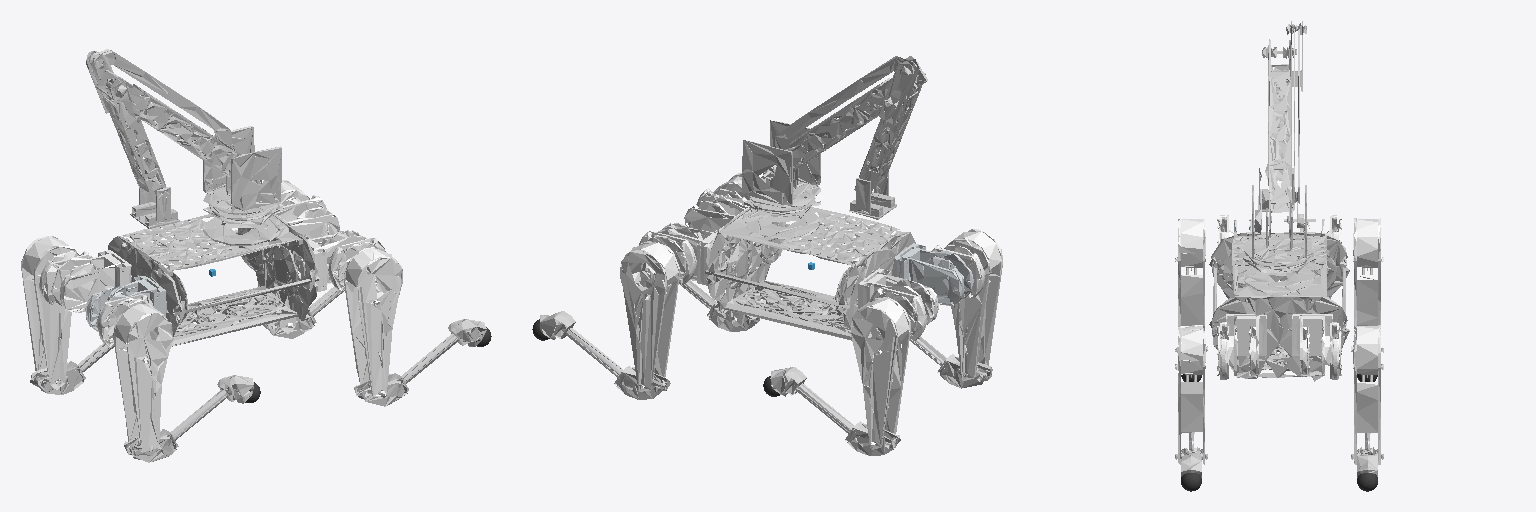
URDF robot description (mybot_v3_with_arm):
<?xml version="1.0" encoding="utf-8"?>
<robot name="mybot_v3_with_arm">
  <link name="body">
    <inertial>
      <origin xyz="0 0 0" rpy="0 0 0"/>
      <mass value="3.87237343"/>
      <inertia ixx="0.02571059" ixy="3E-08" ixz="5.548E-05" iyy="0.06723291" iyz="3.9E-07" izz="0.07677825"/>
    </inertial>
    <visual>
      <origin xyz="0 0 0" rpy="0 0 0"/>
      <geometry>
        <mesh filename="../meshes/body.STL"/>
      </geometry>
      <material name="">
        <color rgba="0.84706 0.84706 0.84706 1"/>
      </material>
    </visual>
    <collision name="body_collision">
      <origin xyz="0 0 0" rpy="0 0 0"/>
      <geometry>
        <box size="0.30 0.25 0.20"/>
      </geometry>
    </collision>
  </link>
  <joint name="imu_joint" type="fixed">
    <parent link="body"/>
    <child link="imu_link"/>
    <origin rpy="0 0 0" xyz="0 0 0"/>
  </joint>
  <link name="imu_link">
    <inertial>
      <mass value="0.001"/>
      <origin rpy="0 0 0" xyz="0 0 0"/>
      <inertia ixx="0.0001" ixy="0" ixz="0" iyy="0.0001" iyz="0" izz="0.0001"/>
    </inertial>
    <visual>
      <origin rpy="0 0 0" xyz="0 0 0"/>
      <geometry>
        <box size="0.01 0.01 0.01"/>
      </geometry>
      <material name="red"/>
    </visual>
    <collision name="imu_link_collision">
      <origin rpy="0 0 0" xyz="0 0 0"/>
      <geometry>
        <box size="0.01 0.01 0.01"/>
      </geometry>
    </collision>
  </link>
  <link name="FL_hip">
    <inertial>
      <origin xyz="0.06912954 0.00308032 -3.864E-05" rpy="0 0 0"/>
      <mass value="0.88715"/>
      <inertia ixx="0.00069961" ixy="-5.524E-05" ixz="1.61E-06" iyy="0.001851" iyz="-2.9E-07" izz="0.0015654"/>
    </inertial>
    <visual>
      <origin xyz="0 0 0" rpy="0 0 0"/>
      <geometry>
        <mesh filename="../meshes/FL_hip.STL"/>
      </geometry>
      <material name="">
        <color rgba="1 1 1 1"/>
      </material>
    </visual>
    <collision name="FL_hip_collision">
      <origin xyz="0.09 0 0" rpy="1.5707963 0 0"/>
      <geometry>
        <box size="0.05 0.05 0.05"/>
      </geometry>
    </collision>
  </link>
  <joint name="FL_hip_joint" type="revolute">
    <origin xyz="0.15078 0.062035 0.0028793" rpy="0 0 0"/>
    <parent link="body"/>
    <child link="FL_hip"/>
    <axis xyz="1 0 0"/>
    <dynamics damping="0.0" friction="0.1"/>
    <limit effort="33.5" lower="-0.8" upper="0.8" velocity="28"/>
  </joint>
  <link name="FL_thigh">
    <inertial>
      <origin xyz="-0.00157835 0.05108903 -0.03349728" rpy="0 0 0"/>
      <mass value="1.4406"/>
      <inertia ixx="0.007123" ixy="6.001E-05" ixz="-6.848E-05" iyy="0.00681289" iyz="0.00118491" izz="0.00198498"/>
    </inertial>
    <visual>
      <origin xyz="0 0 0" rpy="0 0 0"/>
      <geometry>
        <mesh filename="../meshes/FL_thigh.STL"/>
      </geometry>
      <material name="">
        <color rgba="1 1 1 1"/>
      </material>
    </visual>
    <collision name="FL_thigh_collision">
      <origin xyz="0 0.08 -0.1" rpy="0 0 0"/>
      <geometry>
        <box size="0.04 0.04 0.2"/>
      </geometry>
    </collision>
  </link>
  <joint name="FL_thigh_joint" type="revolute">
    <origin xyz="0.0889996956253644 0.0289500000000045 0" rpy="0 0 0"/>
    <parent link="FL_hip"/>
    <child link="FL_thigh"/>
    <axis xyz="0 1 0"/>
    <dynamics damping="0.0" friction="0.1"/>
    <limit effort="33.5" lower="-1.04" upper="4.18" velocity="28"/>
  </joint>
  <link name="FL_calf">
    <inertial>
      <origin xyz="0.00128763 0.00019208 -0.06746137" rpy="0 0 0"/>
      <mass value="0.23708"/>
      <inertia ixx="0.00201781" ixy="-3.8E-07" ixz="0.00025632" iyy="0.00206401" iyz="3.47E-06" izz="0.00012004"/>
    </inertial>
    <visual>
      <origin xyz="0 0 0" rpy="0 0 0"/>
      <geometry>
        <mesh filename="../meshes/FL_calf.STL"/>
      </geometry>
      <material name="">
        <color rgba="0.84706 0.84706 0.84706 1"/>
      </material>
    </visual>
    <collision name="FL_calf_collision">
      <origin xyz="0 0 -0.11" rpy="0 -0.3 0"/>
      <geometry>
        <box size="0.02 0.02 0.2"/>
      </geometry>
    </collision>
  </link>
  <joint name="FL_calf_joint" type="revolute">
    <origin xyz="0 0.075299999999995 -0.220000271728273" rpy="0 0 0"/>
    <parent link="FL_thigh"/>
    <child link="FL_calf"/>
    <axis xyz="0 1 0"/>
    <dynamics damping="0.0" friction="0.3"/>
    <limit effort="78.17" lower="-2.69" upper="-0.91" velocity="12.0"/>
  </joint>
  <link name="FL_foot">
    <inertial>
      <origin xyz="0 0 0" rpy="0 0 0"/>
      <mass value="0.039"/>
      <inertia ixx="6.24E-06" ixy="0" ixz="0" iyy="6.24E-06" iyz="0" izz="6.24E-06"/>
    </inertial>
    <visual>
      <origin xyz="0 0 0" rpy="0 0 0"/>
      <geometry>
        <mesh filename="../meshes/FL_foot.STL"/>
      </geometry>
      <material name="">
        <color rgba="0.29804 0.29804 0.29804 1"/>
      </material>
    </visual>
    <collision name="FL_foot_collision">
      <origin xyz="0 0 0" rpy="0 0 0"/>
      <geometry>
        <sphere radius="0.02"/>
      </geometry>
    </collision>
  </link>
  <joint name="FL_foot_joint" type="fixed">
    <origin xyz="0 0.000400000000007244 -0.226044482407549" rpy="0 0 0"/>
    <parent link="FL_calf"/>
    <child link="FL_foot"/>
    <axis xyz="0 0 0"/>
  </joint>
  <link name="FR_hip">
    <inertial>
      <origin xyz="0.06924677 -0.00308032 -3.847E-05" rpy="0 0 0"/>
      <mass value="0.88715"/>
      <inertia ixx="0.00069961" ixy="5.408E-05" ixz="-2.6E-07" iyy="0.00185513" iyz="2.9E-07" izz="0.00156952"/>
    </inertial>
    <visual>
      <origin xyz="0 0 0" rpy="0 0 0"/>
      <geometry>
        <mesh filename="../meshes/FR_hip.STL"/>
      </geometry>
      <material name="">
        <color rgba="1 1 1 1"/>
      </material>
    </visual>
    <collision name="FR_hip_collision">
      <origin xyz="0.09 0 0" rpy="1.5707963 0 0"/>
      <geometry>
        <box size="0.05 0.05 0.05"/>
      </geometry>
    </collision>
  </link>
  <joint name="FR_hip_joint" type="revolute">
    <origin xyz="0.15078 -0.061965 0.0028793" rpy="0 0 0"/>
    <parent link="body"/>
    <child link="FR_hip"/>
    <axis xyz="1 0 0"/>
    <dynamics damping="0.0" friction="0.1"/>
    <limit effort="33.5" lower="-0.8" upper="0.8" velocity="28"/>
  </joint>
  <link name="FR_thigh">
    <inertial>
      <origin xyz="-0.00165058 -0.05108904 -0.03349728" rpy="0 0 0"/>
      <mass value="1.4406"/>
      <inertia ixx="0.007123" ixy="-5.712E-05" ixz="-6.685E-05" iyy="0.00681255" iyz="-0.00118491" izz="0.00198464"/>
    </inertial>
    <visual>
      <origin xyz="0 0 0" rpy="0 0 0"/>
      <geometry>
        <mesh filename="../meshes/FR_thigh.STL"/>
      </geometry>
      <material name="">
        <color rgba="1 1 1 1"/>
      </material>
    </visual>
    <collision name="FR_thigh_collision">
      <origin xyz="0 -0.08 -0.1" rpy="0 0 0"/>
      <geometry>
        <box size="0.04 0.04 0.2"/>
      </geometry>
    </collision>
  </link>
  <joint name="FR_thigh_joint" type="revolute">
    <origin xyz="0.0889996956253649 -0.0289500000000027 0" rpy="0 0 0"/>
    <parent link="FR_hip"/>
    <child link="FR_thigh"/>
    <axis xyz="0 1 0"/>
    <dynamics damping="0.0" friction="0.1"/>
    <limit effort="33.5" lower="-1.04" upper="4.18" velocity="28"/>
  </joint>
  <link name="FR_calf">
    <inertial>
      <origin xyz="0.00128778 0.00059175 -0.06722727" rpy="0 0 0"/>
      <mass value="0.23708"/>
      <inertia ixx="0.00208296" ixy="1E-07" ixz="0.00025619" iyy="0.00206862" iyz="-2.062E-05" izz="0.00018061"/>
    </inertial>
    <visual>
      <origin xyz="0 0 0" rpy="0 0 0"/>
      <geometry>
        <mesh filename="../meshes/FR_calf.STL"/>
      </geometry>
      <material name="">
        <color rgba="0.84706 0.84706 0.84706 1"/>
      </material>
    </visual>
    <collision name="FR_calf_collision">
      <origin xyz="0 0 -0.11" rpy="0 -0.3 0"/>
      <geometry>
        <box size="0.02 0.02 0.2"/>
      </geometry>
    </collision>
  </link>
  <joint name="FR_calf_joint" type="revolute">
    <origin xyz="0 -0.0752999999999995 -0.220000271728275" rpy="0 0 0"/>
    <parent link="FR_thigh"/>
    <child link="FR_calf"/>
    <axis xyz="0 1 0"/>
    <dynamics damping="0.0" friction="0.3"/>
    <limit effort="78.17" lower="-2.69" upper="-0.91" velocity="12.0"/>
  </joint>
  <link name="FR_foot">
    <inertial>
      <origin xyz="0 0 0" rpy="0 0 0"/>
      <mass value="0.039"/>
      <inertia ixx="6.24E-06" ixy="0" ixz="0" iyy="6.24E-06" iyz="0" izz="6.24E-06"/>
    </inertial>
    <visual>
      <origin xyz="0 0 0" rpy="0 0 0"/>
      <geometry>
        <mesh filename="../meshes/FR_foot.STL"/>
      </geometry>
      <material name="">
        <color rgba="0.29804 0.29804 0.29804 1"/>
      </material>
    </visual>
    <collision name="FR_foot_collision">
      <origin xyz="0 0 0" rpy="0 0 0"/>
      <geometry>
        <sphere radius="0.02"/>
      </geometry>
    </collision>
  </link>
  <joint name="FR_foot_joint" type="fixed">
    <origin xyz="0 -0.000399999999994072 -0.226044482407548" rpy="0 0 0"/>
    <parent link="FR_calf"/>
    <child link="FR_foot"/>
    <axis xyz="0 0 0"/>
  </joint>
  <link name="RL_hip">
    <inertial>
      <origin xyz="-0.06912961 0.00308032 3.847E-05" rpy="0 0 0"/>
      <mass value="0.88715"/>
      <inertia ixx="0.00069961" ixy="5.524E-05" ixz="1.61E-06" iyy="0.00185101" iyz="2.9E-07" izz="0.00039462"/>
    </inertial>
    <visual>
      <origin xyz="0 0 0" rpy="0 0 0"/>
      <geometry>
        <mesh filename="../meshes/RL_hip.STL"/>
      </geometry>
      <material name="">
        <color rgba="1 1 1 1"/>
      </material>
    </visual>
    <collision name="RL_hip_collision">
      <origin xyz="-0.09 0 0" rpy="1.5707963 0 0"/>
      <geometry>
        <box size="0.05 0.05 0.05"/>
      </geometry>
    </collision>
  </link>
  <joint name="RL_hip_joint" type="revolute">
    <origin xyz="-0.15042 0.062035 0.0028793" rpy="0 0 0"/>
    <parent link="body"/>
    <child link="RL_hip"/>
    <axis xyz="1 0 0"/>
    <dynamics damping="0.0" friction="0.1"/>
    <limit effort="33.5" lower="-0.8" upper="0.8" velocity="28"/>
  </joint>
  <link name="RL_thigh">
    <inertial>
      <origin xyz="-0.00160464 0.05142477 -0.0332169" rpy="0 0 0"/>
      <mass value="1.4406"/>
      <inertia ixx="0.00716742" ixy="6.033E-05" ixz="-6.711E-05" iyy="0.00683898" iyz="0.00116896" izz="0.0020135"/>
    </inertial>
    <visual>
      <origin xyz="0 0 0" rpy="0 0 0"/>
      <geometry>
        <mesh filename="../meshes/RL_thigh.STL"/>
      </geometry>
      <material name="">
        <color rgba="1 1 1 1"/>
      </material>
    </visual>
    <collision name="RL_thigh_collision">
      <origin xyz="0 0.08 -0.1" rpy="0 0 0"/>
      <geometry>
        <box size="0.04 0.04 0.2"/>
      </geometry>
    </collision>
  </link>
  <joint name="RL_thigh_joint" type="revolute">
    <origin xyz="-0.0889996956253643 0.0289499874999981 0" rpy="0 0 0"/>
    <parent link="RL_hip"/>
    <child link="RL_thigh"/>
    <axis xyz="0 1 0"/>
    <dynamics damping="0.0" friction="0.1"/>
    <limit effort="33.5" lower="-1.04" upper="4.18" velocity="28"/>
  </joint>
  <link name="RL_calf">
    <inertial>
      <origin xyz="1.358E-05 1.0345E-05 -0.06699953" rpy="0 0 0"/>
      <mass value="0.23708"/>
      <inertia ixx="0.00202425" ixy="0" ixz="0.00025653" iyy="0.00207095" iyz="-2.7E-07" izz="0.00011991"/>
    </inertial>
    <visual>
      <origin xyz="0 0 0" rpy="0 0 0"/>
      <geometry>
        <mesh filename="../meshes/RL_calf.STL"/>
      </geometry>
      <material name="">
        <color rgba="0.84706 0.84706 0.84706 1"/>
      </material>
    </visual>
    <collision name="RL_calf_collision">
      <origin xyz="0 0 -0.11" rpy="0 -0.3 0"/>
      <geometry>
        <box size="0.02 0.02 0.2"/>
      </geometry>
    </collision>
  </link>
  <joint name="RL_calf_joint" type="revolute">
    <origin xyz="0 0.0752999999999953 -0.220000271728273" rpy="0 0 0"/>
    <parent link="RL_thigh"/>
    <child link="RL_calf"/>
    <axis xyz="0 1 0"/>
    <dynamics damping="0.0" friction="0.3"/>
    <limit effort="78.17" lower="-2.69" upper="-0.91" velocity="12.0"/>
  </joint>
  <link name="RL_foot">
    <inertial>
      <origin xyz="0 0 0" rpy="0 0 0"/>
      <mass value="0.039"/>
      <inertia ixx="6.24E-06" ixy="0" ixz="0" iyy="6.24E-06" iyz="0" izz="6.24E-06"/>
    </inertial>
    <visual>
      <origin xyz="0 0 0" rpy="0 0 0"/>
      <geometry>
        <mesh filename="../meshes/RL_foot.STL"/>
      </geometry>
      <material name="">
        <color rgba="0.29804 0.29804 0.29804 1"/>
      </material>
    </visual>
    <collision name="RL_foot_collision">
      <origin xyz="0 0 0" rpy="0 0 0"/>
      <geometry>
        <sphere radius="0.02"/>
      </geometry>
    </collision>
  </link>
  <joint name="RL_foot_joint" type="fixed">
    <origin xyz="0 0 -0.226044482410381" rpy="0 0 0"/>
    <parent link="RL_calf"/>
    <child link="RL_foot"/>
    <axis xyz="0 0 0"/>
  </joint>
  <link name="RR_hip">
    <inertial>
      <origin xyz="-0.06924676 -0.00308032 3.847E-05" rpy="0 0 0"/>
      <mass value="0.88715"/>
      <inertia ixx="0.00069961" ixy="-5.408E-05" ixz="-2.6E-07" iyy="0.00185513" iyz="-2.9E-07" izz="0.00156952"/>
    </inertial>
    <visual>
      <origin xyz="0 0 0" rpy="0 0 0"/>
      <geometry>
        <mesh filename="../meshes/RR_hip.STL"/>
      </geometry>
      <material name="">
        <color rgba="0.89804 0.91765 0.92941 1"/>
      </material>
    </visual>
    <collision name="RR_hip_collision">
      <origin xyz="-0.09 0 0" rpy="1.5707963 0 0"/>
      <geometry>
        <box size="0.05 0.05 0.05"/>
      </geometry>
    </collision>
  </link>
  <joint name="RR_hip_joint" type="revolute">
    <origin xyz="-0.150422440000001 -0.0619648146458117 0.00287929128020871" rpy="0 0 0"/>
    <parent link="body"/>
    <child link="RR_hip"/>
    <axis xyz="1 0 0"/>
    <dynamics damping="0.0" friction="0.1"/>
    <limit effort="33.5" lower="-0.8" upper="0.8" velocity="28"/>
  </joint>
  <link name="RR_thigh">
    <inertial>
      <origin xyz="-0.0016754 -0.050906 -0.029428" rpy="0 0 0"/>
      <mass value="1.4406"/>
      <inertia ixx="0.0060848" ixy="-5.774E-05" ixz="-7.671E-05" iyy="0.005786" iyz="-0.0010329" izz="0.0019806"/>
    </inertial>
    <visual>
      <origin xyz="0 0 0" rpy="0 0 0"/>
      <geometry>
        <mesh filename="../meshes/RR_thigh.STL"/>
      </geometry>
      <material name="">
        <color rgba="1 1 1 1"/>
      </material>
    </visual>
    <collision name="RR_thigh_collision">
      <origin xyz="0 -0.08 -0.1" rpy="0 0 0"/>
      <geometry>
        <box size="0.04 0.04 0.2"/>
      </geometry>
    </collision>
  </link>
  <joint name="RR_thigh_joint" type="revolute">
    <origin xyz="-0.0889996956253639 -0.0289499875000004 0" rpy="0 0 0"/>
    <parent link="RR_hip"/>
    <child link="RR_thigh"/>
    <axis xyz="0 1 0"/>
    <dynamics damping="0.0" friction="0.1"/>
    <limit effort="33.5" lower="-1.04" upper="4.18" velocity="28"/>
  </joint>
  <link name="RR_calf">
    <inertial>
      <origin xyz="0.00105039 -9.676E-05 -0.06329053" rpy="0 0 0"/>
      <mass value="0.23708"/>
      <inertia ixx="0.0020709" ixy="-3E-08" ixz="0.00026042" iyy="0.00210651" iyz="1.58E-06" izz="0.00013106"/>
    </inertial>
    <visual>
      <origin xyz="0 0 0" rpy="0 0 0"/>
      <geometry>
        <mesh filename="../meshes/RR_calf.STL"/>
      </geometry>
      <material name="">
        <color rgba="0.84706 0.84706 0.84706 1"/>
      </material>
    </visual>
    <collision name="RR_calf_collision">
      <origin xyz="0 0 -0.11" rpy="0 -0.3 0"/>
      <geometry>
        <box size="0.02 0.02 0.2"/>
      </geometry>
    </collision>
  </link>
  <joint name="RR_calf_joint" type="revolute">
    <origin xyz="0 -0.0752999999999974 -0.220000271728273" rpy="0 0 0"/>
    <parent link="RR_thigh"/>
    <child link="RR_calf"/>
    <axis xyz="0 1 0"/>
    <dynamics damping="0.0" friction="0.3"/>
    <limit effort="78.17" lower="-2.69" upper="-0.91" velocity="12.0"/>
  </joint>
  <link name="RR_foot">
    <inertial>
      <origin xyz="0 0 0" rpy="0 0 0"/>
      <mass value="0.039"/>
      <inertia ixx="6.24E-06" ixy="0" ixz="0" iyy="6.24E-06" iyz="0" izz="6.24E-06"/>
    </inertial>
    <visual>
      <origin xyz="0 0 0" rpy="0 0 0"/>
      <geometry>
        <mesh filename="../meshes/RR_foot.STL"/>
      </geometry>
      <material name="">
        <color rgba="0.29804 0.29804 0.29804 1"/>
      </material>
    </visual>
    <collision name="RR_foot_collision">
      <origin xyz="0 0 0" rpy="0 0 0"/>
      <geometry>
        <sphere radius="0.02"/>
      </geometry>
    </collision>
  </link>
  <joint name="RR_foot_joint" type="fixed">
    <origin xyz="0 0 -0.226044482410382" rpy="0 0 0"/>
    <parent link="RR_calf"/>
    <child link="RR_foot"/>
    <axis xyz="0 0 0"/>
  </joint>
  <link name="arm_base_fix">
    <inertial>
      <origin xyz="-0.06777427 0.00172378 0.11395569" rpy="0 0 0"/>
      <mass value="3.49951728"/>
      <inertia ixx="0.04270647" ixy="0.00109583" ixz="0.02637703" iyy="0.07424103" iyz="-0.00195862" izz="0.04229201"/>
    </inertial>
    <visual>
      <origin xyz="0 0 0" rpy="0 0 0"/>
      <geometry>
        <mesh filename="../meshes/arm_base_fix.STL"/>
      </geometry>
      <material name="">
        <color rgba="0.84706 0.84706 0.84706 1"/>
      </material>
    </visual>
  </link>
  <joint name="arm_base_fix_joint" type="fixed">
    <origin xyz="0.060178 0.00017443 0.085879" rpy="0 0 0"/>
    <parent link="body"/>
    <child link="arm_base_fix"/>
  </joint>
  <gazebo reference="imu_link">
    <sensor name="imu_sensor" type="imu">
      <always_on>true</always_on>
      <update_rate>200</update_rate>
      <visualize>false</visualize>
      <imu>
        <angular_velocity>
          <x>
            <noise type="gaussian">
              <mean>0.0</mean>
              <stddev>0.0002</stddev>
            </noise>
          </x>
          <y>
            <noise type="gaussian">
              <mean>0.0</mean>
              <stddev>0.0002</stddev>
            </noise>
          </y>
          <z>
            <noise type="gaussian">
              <mean>0.0</mean>
              <stddev>0.0002</stddev>
            </noise>
          </z>
        </angular_velocity>
        <linear_acceleration>
          <x>
            <noise type="gaussian">
              <mean>0.0</mean>
              <stddev>0.001</stddev>
            </noise>
          </x>
          <y>
            <noise type="gaussian">
              <mean>0.0</mean>
              <stddev>0.001</stddev>
            </noise>
          </y>
          <z>
            <noise type="gaussian">
              <mean>0.0</mean>
              <stddev>0.001</stddev>
            </noise>
          </z>
        </linear_acceleration>
      </imu>
      <plugin name="imu_plugin" filename="libgazebo_ros_imu_sensor.so">
        <ros>
          <namespace>/</namespace>
          <remapping>~/out:=imu/data</remapping>
        </ros>
        <frame_name>imu_link</frame_name>
        <initial_orientation_as_reference>false</initial_orientation_as_reference>
      </plugin>
    </sensor>
  </gazebo>
  <gazebo reference="FL_foot">
    <sensor name="FL_foot_contact_sensor" type="contact">
      <always_on>true</always_on>
      <update_rate>200</update_rate>
      <visualize>false</visualize>
      <contact>
        <collision>FL_foot_collision</collision>
      </contact>
      <plugin name="FL_foot_contact_plugin" filename="libgazebo_ros_bumper.so">
        <frame_name>FL_foot</frame_name>
        <ros>
          <namespace>/</namespace>
          <remapping>bumpers:=/FL_foot/contact</remapping>
        </ros>
      </plugin>
    </sensor>
  </gazebo>
  <gazebo reference="FR_foot">
    <sensor name="FR_foot_contact_sensor" type="contact">
      <always_on>true</always_on>
      <update_rate>200</update_rate>
      <visualize>false</visualize>
      <contact>
        <collision>FR_foot_collision</collision>
      </contact>
      <plugin name="FR_foot_contact_plugin" filename="libgazebo_ros_bumper.so">
        <frame_name>FR_foot</frame_name>
        <ros>
          <namespace>/</namespace>
          <remapping>bumpers:=/FR_foot/contact</remapping>
        </ros>
      </plugin>
    </sensor>
  </gazebo>
  <gazebo reference="RL_foot">
    <sensor name="RL_foot_contact_sensor" type="contact">
      <always_on>true</always_on>
      <update_rate>200</update_rate>
      <visualize>false</visualize>
      <contact>
        <collision>RL_foot_collision</collision>
      </contact>
      <plugin name="RL_foot_contact_plugin" filename="libgazebo_ros_bumper.so">
        <frame_name>RL_foot</frame_name>
        <ros>
          <namespace>/</namespace>
          <remapping>bumpers:=/RL_foot/contact</remapping>
        </ros>
      </plugin>
    </sensor>
  </gazebo>
  <gazebo reference="RR_foot">
    <sensor name="RR_foot_contact_sensor" type="contact">
      <always_on>true</always_on>
      <update_rate>200</update_rate>
      <visualize>false</visualize>
      <contact>
        <collision>RR_foot_collision</collision>
      </contact>
      <plugin name="RR_foot_contact_plugin" filename="libgazebo_ros_bumper.so">
        <frame_name>RR_foot</frame_name>
        <ros>
          <namespace>/</namespace>
          <remapping>bumpers:=/RR_foot/contact</remapping>
        </ros>
      </plugin>
    </sensor>
  </gazebo>
</robot>

--- Facts derived from the render (not from the file) ---
3 views of the same robot in one strip: view 1: azimuth 30°, elevation 25°; view 2: azimuth 150°, elevation 25°; view 3: azimuth 270°, elevation 25° (orthographic).
Model mybot_v3_with_arm with 19 links and 18 joints (12 revolute, 6 fixed), rooted at body, posed all joints at 0 but 4 set to mid-range because 0 is outside their limits (FL_calf_joint = -1.8, FR_calf_joint = -1.8, RL_calf_joint = -1.8, RR_calf_joint = -1.8).
Links seen in each view (by area): view 1: arm_base_fix, body, RR_thigh, FR_thigh, RL_thigh, RL_hip, FR_calf, RR_calf, RR_hip, FL_hip, FR_hip, RL_calf (+2 smaller); view 2: arm_base_fix, body, FL_thigh, RL_thigh, RR_thigh, RR_hip, RL_calf, FL_calf, RL_hip, FR_hip, RR_calf, FL_hip (+2 smaller); view 3: body, arm_base_fix, FL_thigh, FR_thigh, RL_thigh, RR_thigh, FL_hip, FR_hip, FR_calf.
Link boxes in pixels (x1,y1,x2,y2): arm_base_fix: [86, 49, 281, 245]; body: [108, 214, 319, 346]; RR_thigh: [96, 294, 173, 455]; FR_thigh: [328, 238, 402, 397]; RL_thigh: [21, 236, 92, 389]; RL_hip: [51, 250, 131, 312]; FR_calf: [354, 319, 486, 406]; RR_calf: [124, 375, 253, 462]; RR_hip: [86, 276, 166, 331]; FL_hip: [266, 202, 339, 257]; FR_hip: [294, 230, 366, 291]; RL_calf: [30, 343, 114, 394]; arm_base_fix: [742, 56, 927, 239]; body: [705, 207, 915, 340]; FL_thigh: [620, 231, 696, 391]; RL_thigh: [850, 287, 927, 449]; RR_thigh: [931, 229, 1002, 380]; RR_hip: [891, 243, 973, 305]; RL_calf: [770, 367, 900, 455]; FL_calf: [540, 311, 670, 399]; RL_hip: [857, 268, 938, 324]; FR_hip: [684, 195, 761, 249]; RR_calf: [910, 336, 992, 388]; FL_hip: [657, 223, 729, 285]; body: [1209, 232, 1349, 381]; arm_base_fix: [1243, 21, 1315, 292]; FL_thigh: [1325, 322, 1383, 464]; FR_thigh: [1175, 322, 1233, 464]; RL_thigh: [1327, 215, 1383, 352]; RR_thigh: [1175, 215, 1233, 326]; FL_hip: [1292, 314, 1332, 375]; FR_hip: [1226, 314, 1266, 375]; FR_calf: [1181, 447, 1364, 477].
Bounding box of the posed robot: 0.7767 × 0.3975 × 0.729 m (x, y, z).
18 mesh visuals loaded from 18 distinct referenced files (18 binary STL).
